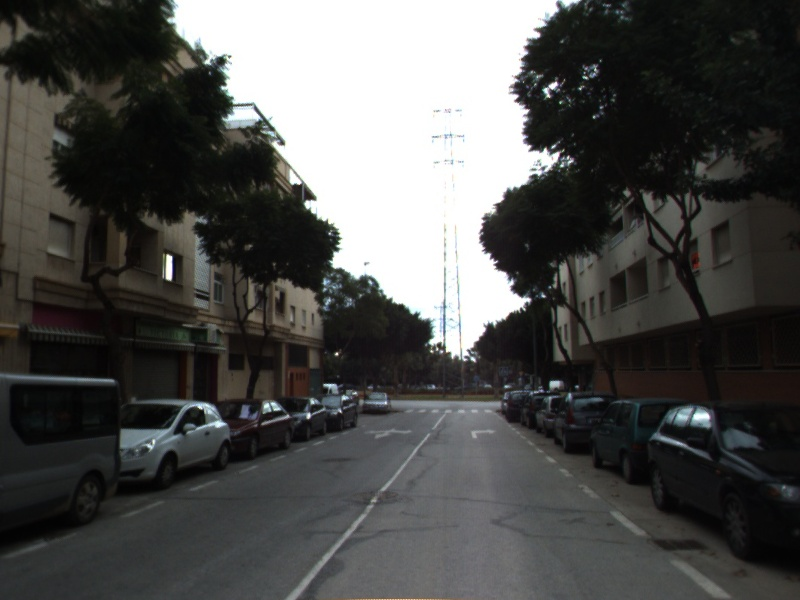RIGHT: (468, 426, 498, 440)
